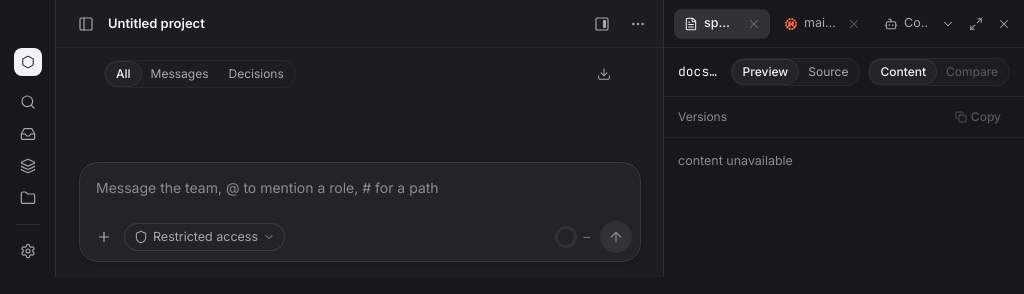
Test case: 画布页签右键菜单（A16b 第一批） › 产物页签：关闭 · 关闭其他 · 关闭右侧 · 复制路径，依此顺序
(page scrolled)
Right-click the element showing "spec.md" at coordinates (722, 24), box [674, 8, 770, 38]
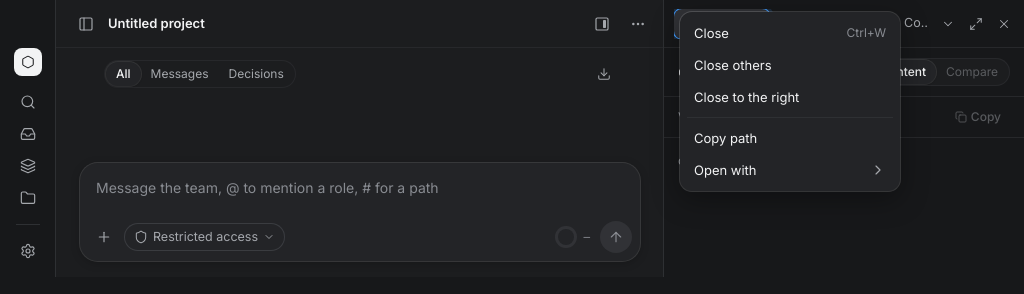
Expected: the menu is shown, [680, 12, 900, 191]
